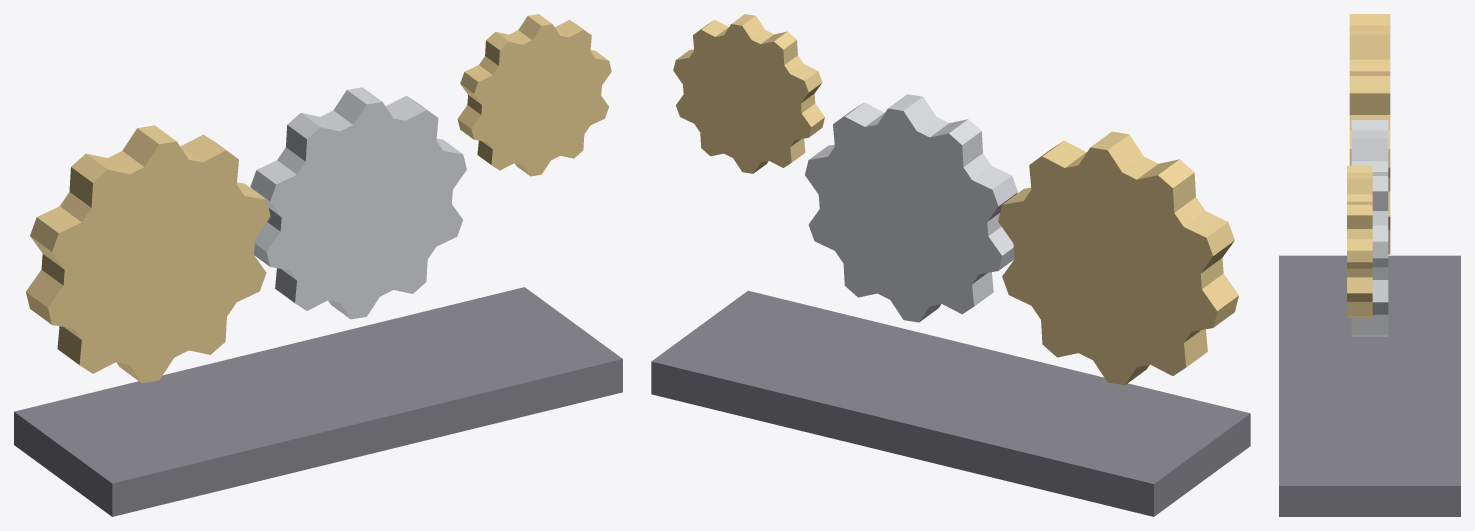
File: static.glb
3 renders of one model, left to right at view 1: azimuth 30°, elevation 25°; view 2: azimuth 150°, elevation 25°; view 3: azimuth 270°, elevation 25°, orthographic. The views are drawn at different scales.
Visible parts, largest first — view 1: Base, Gear1, Gear2, Gear3; view 2: Base, Gear1, Gear2, Gear3; view 3: Base, Gear2, Gear1, Gear3.
Boxes of the visible parts, <box> form: Base: <box>14,287,622,516</box>; Gear1: <box>26,125,270,382</box>; Gear2: <box>250,87,466,319</box>; Gear3: <box>457,14,611,176</box>; Base: <box>651,290,1250,516</box>; Gear1: <box>998,131,1238,385</box>; Gear2: <box>805,94,1017,322</box>; Gear3: <box>673,14,824,173</box>; Base: <box>1279,255,1460,516</box>; Gear2: <box>1351,120,1388,336</box>; Gear1: <box>1349,14,1390,254</box>; Gear3: <box>1347,165,1372,317</box>.
Bounding box in the file's own units: 2.64 × 1.57 × 0.8.
